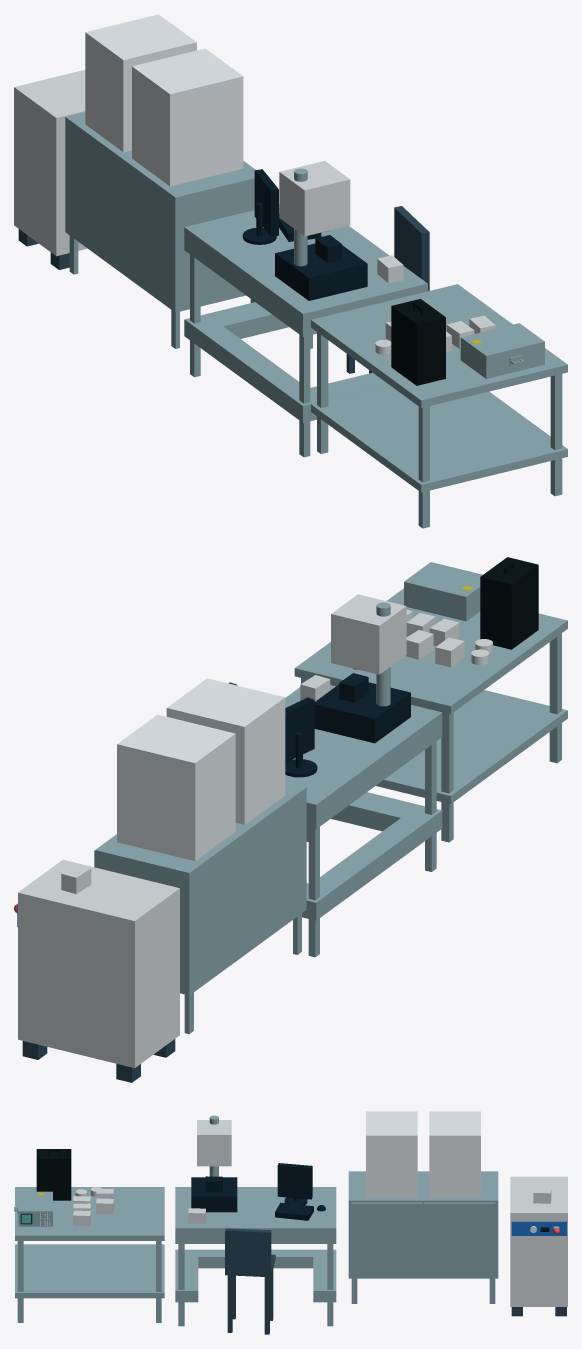
The model's file is clutter 2.glb.
The picture shows the model from 3 angles, top to bottom: view 1: azimuth 30°, elevation 25°; view 2: azimuth 150°, elevation 25°; view 3: azimuth 270°, elevation 25°; orthographic projection. The views are drawn at different scales.
Parts seen in each view (by area): view 1: clutter 2; view 2: clutter 2; view 3: clutter 2.
Boxes of the visible parts, bbox=[...] form: clutter 2: bbox=[14, 14, 567, 528]; clutter 2: bbox=[14, 557, 567, 1082]; clutter 2: bbox=[14, 1111, 567, 1334].
Size of the model in its own units: 1.15 by 1.7 by 4.81.
